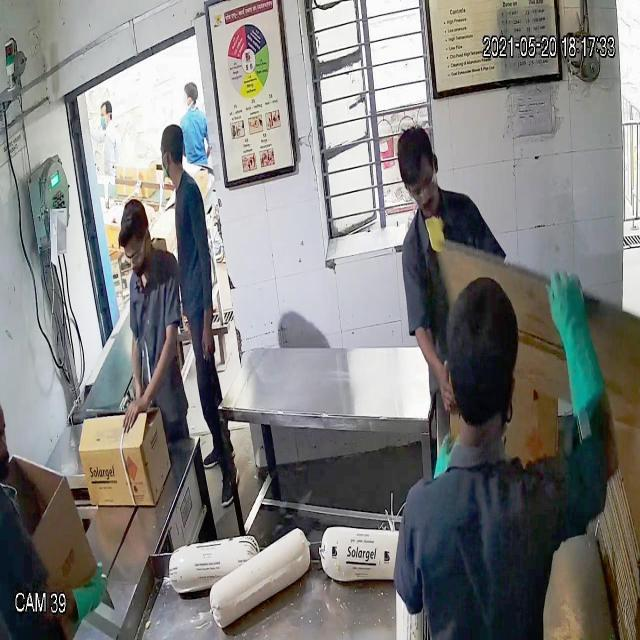glasses: (401, 167, 443, 201), (118, 236, 148, 270)
